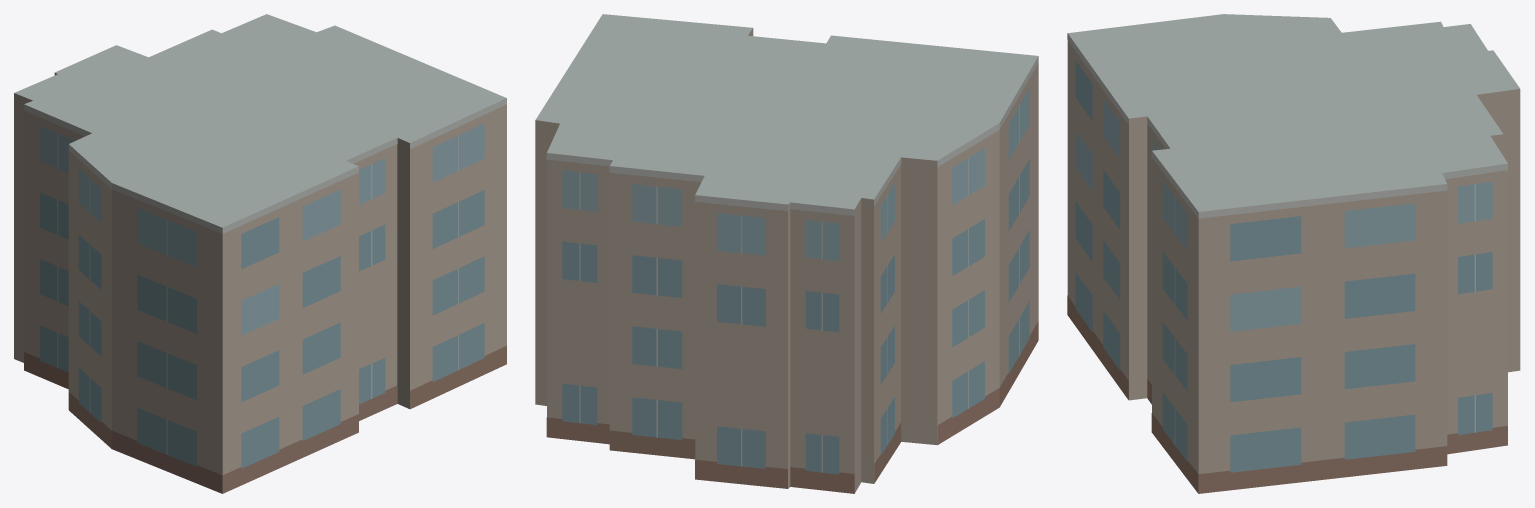
File: survey-upis-32669375.glb
The picture shows the model from 3 angles, left to right: view 1: azimuth 30°, elevation 25°; view 2: azimuth 150°, elevation 25°; view 3: azimuth 270°, elevation 25°; orthographic projection. The views are drawn at different scales.
Parts seen in each view (by area): view 1: survey-upis-32669375.tmp; view 2: survey-upis-32669375.tmp; view 3: survey-upis-32669375.tmp.
Part boxes in pixels (x1,y1,x2,y2): survey-upis-32669375.tmp: (14, 14, 506, 493); survey-upis-32669375.tmp: (535, 14, 1038, 493); survey-upis-32669375.tmp: (1067, 14, 1520, 493).
Bounding box in the file's own units: 15.68 × 10.4 × 15.15.
